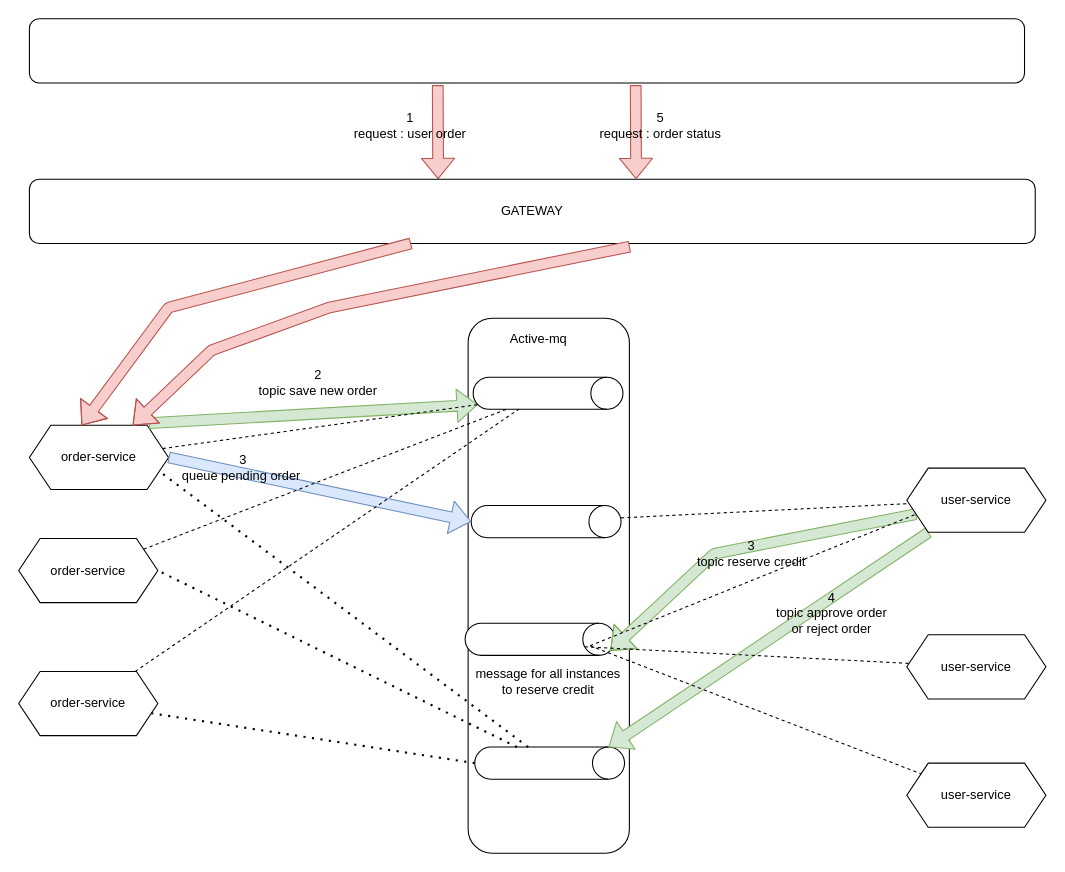
This 1065x872 diagram has some shape labels left out. The shapes that lost their labels are listed below. From the top down, each one's centre as x and y in pixels, then its label:
At (526,50): "front-ent".
At (547,392): "message for all instances to save order".
At (545,521): "message for 1 instance for pending order".
At (549,762): "message for all instances to save if order is accepted or rejected".
